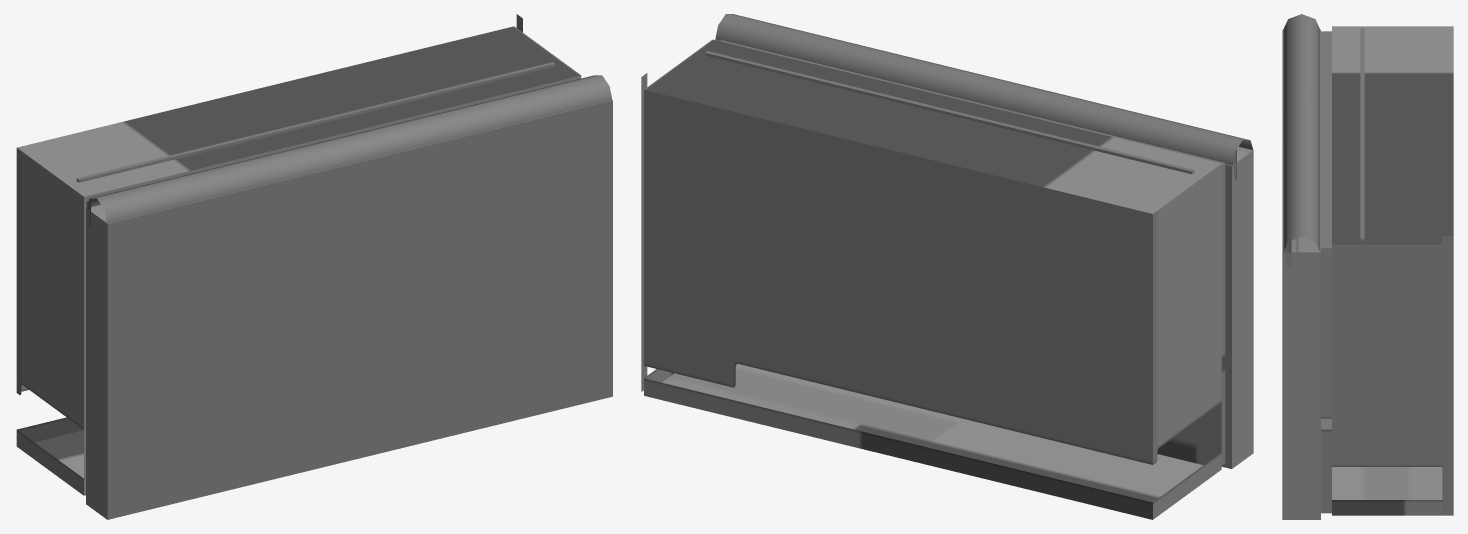
3 renders of one model, left to right at view 1: azimuth 30°, elevation 25°; view 2: azimuth 150°, elevation 25°; view 3: azimuth 270°, elevation 25°, orthographic. The views are drawn at different scales.
Bounding box in the file's own units: 0.955 × 0.5665 × 0.31.
